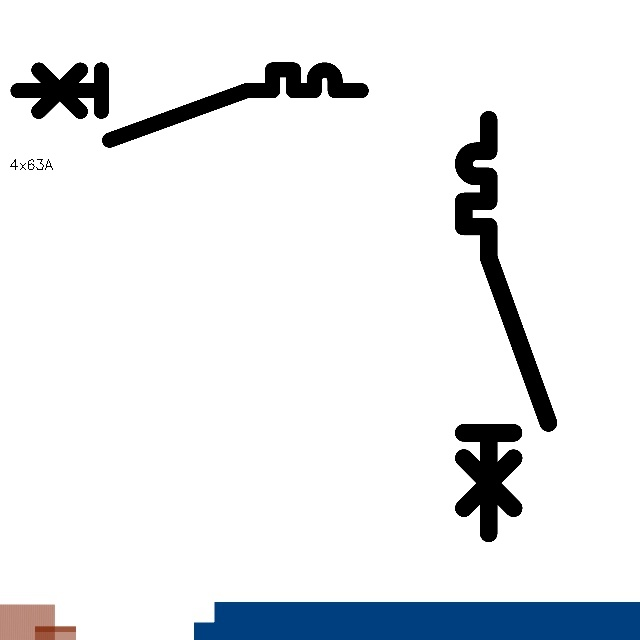interruptor_termomagnetico: (453, 109, 559, 544), (9, 61, 370, 149)
